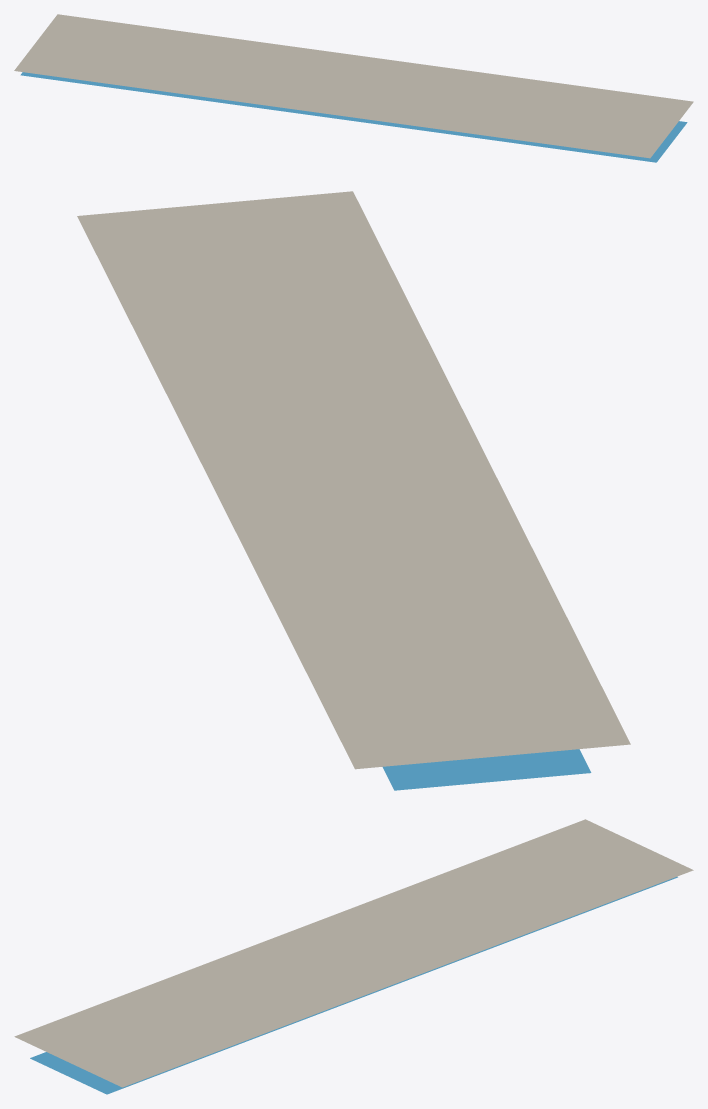
3 renders of one model, top to bottom at view 1: azimuth 30°, elevation 25°; view 2: azimuth 150°, elevation 25°; view 3: azimuth 270°, elevation 25°, orthographic. The views are drawn at different scales.
Parts seen in each view (by area): view 1: estructura_terreno, estructura_agua; view 2: estructura_terreno, estructura_agua; view 3: estructura_terreno, estructura_agua.
Boxes of the visible parts, x1,y1,x2,y2 form: estructura_terreno: (14, 14, 693, 158); estructura_agua: (20, 72, 687, 162); estructura_terreno: (77, 191, 630, 769); estructura_agua: (382, 749, 591, 790); estructura_terreno: (14, 819, 693, 1087); estructura_agua: (30, 876, 677, 1094).
Size of the model in its own units: 16.45 by 0.41 by 17.62.
